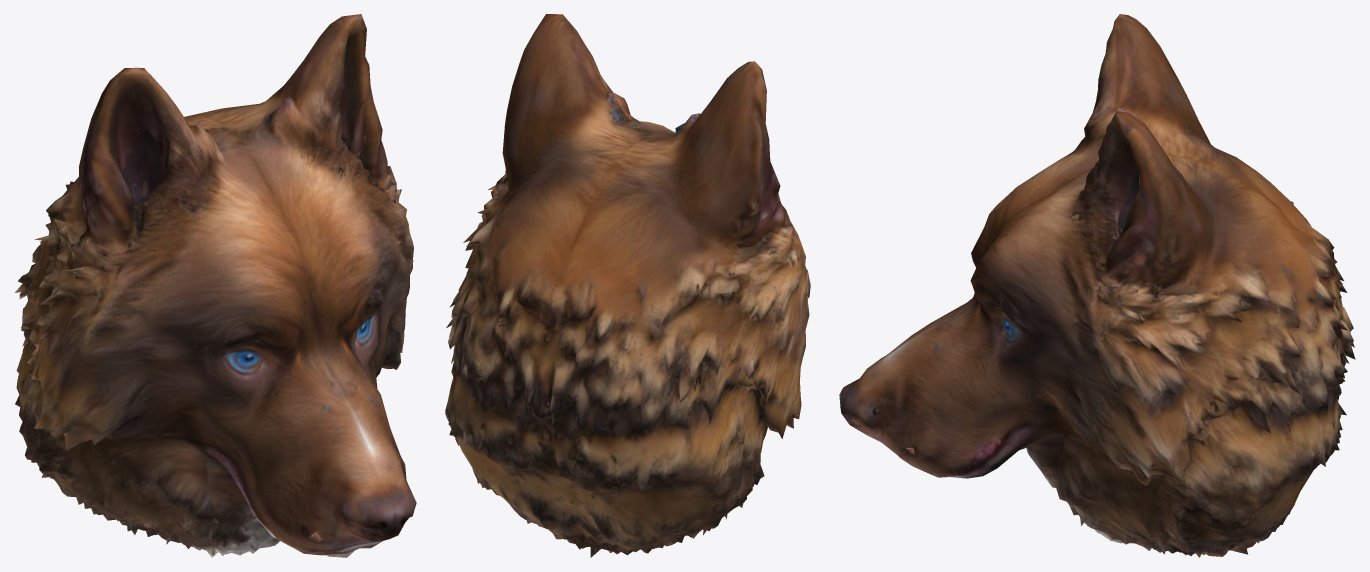
File: Blue_Eyed_Pup_Head_1018194002_texture.glb
3 views of the same model, side by side, from view 1: azimuth 30°, elevation 25°; view 2: azimuth 150°, elevation 25°; view 3: azimuth 270°, elevation 25° (orthographic). The views are drawn at different scales.
Visible parts, largest first — view 1: Mesh1.0; view 2: Mesh1.0; view 3: Mesh1.0.
Boxes of the visible parts, x1=… form: Mesh1.0: x1=15, y1=14, x2=416, y2=557; Mesh1.0: x1=445, y1=14, x2=810, y2=557; Mesh1.0: x1=839, y1=14, x2=1355, y2=557.
Bounding box in the file's own units: 1.33 × 1.9 × 1.83.
1 material, 1 textured.
